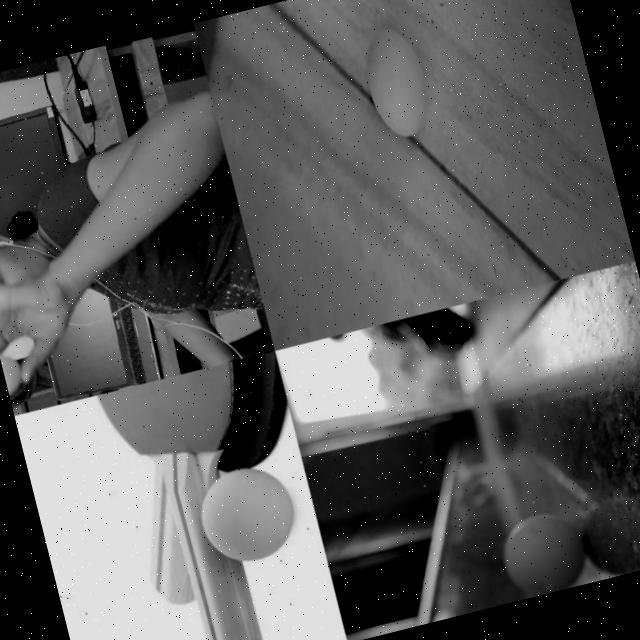ping-pong-ball: (191, 458, 299, 570), (493, 502, 592, 602), (355, 22, 434, 140), (0, 347, 24, 393)
